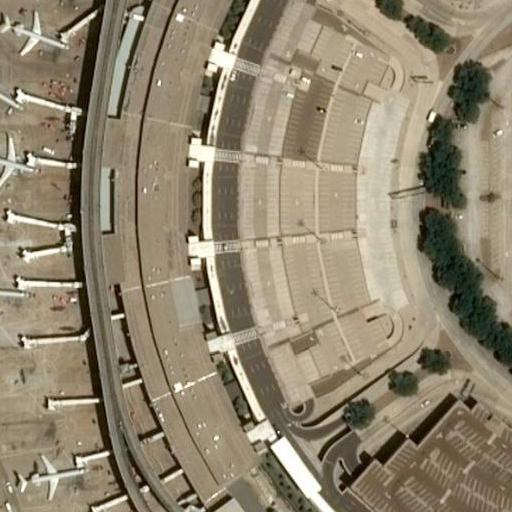Aircraft: (13, 451, 83, 501), (0, 7, 62, 56), (0, 132, 36, 183), (0, 268, 30, 317), (0, 57, 19, 114)
